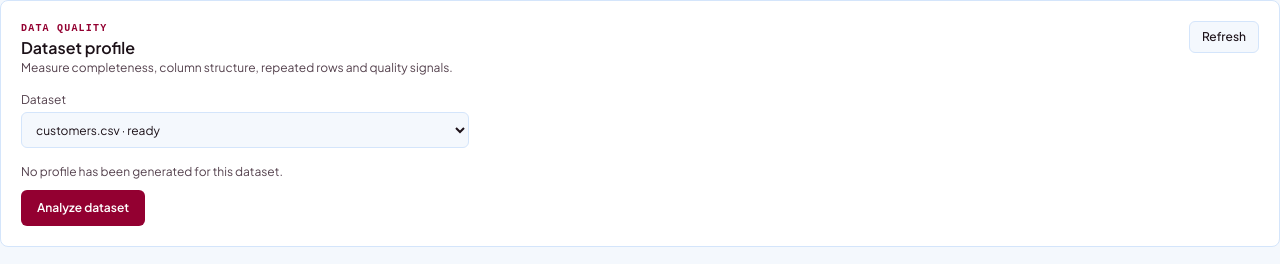
DatasetProfilePanel › lets an owner start a missing profile
Click the button "Analyze dataset". click: x=83, y=208
box: [21, 190, 145, 226]
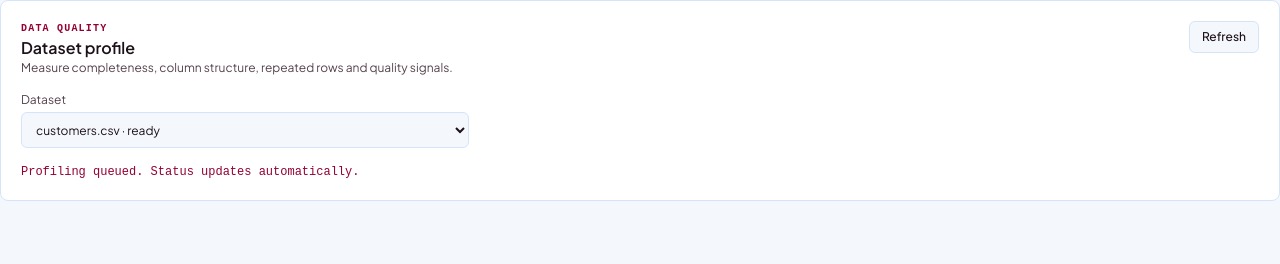
expect the text "Profiling queued. Status updates automatically." is shown: met, box [21, 165, 360, 179]
